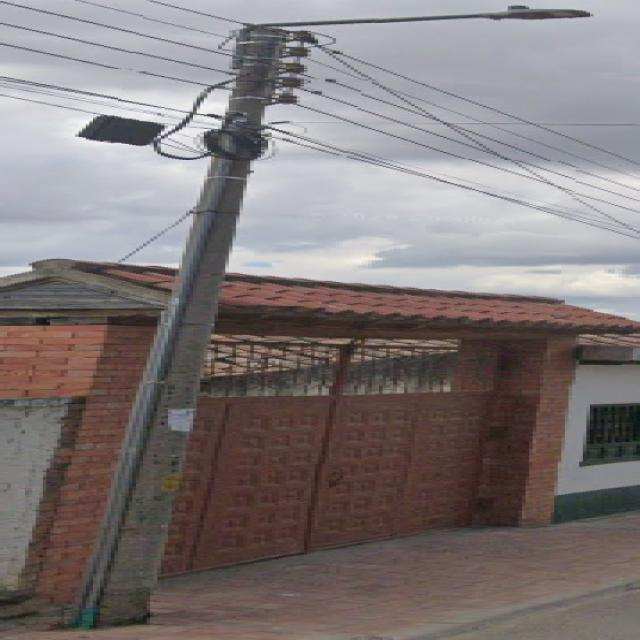Poste: (79, 6, 583, 628)
